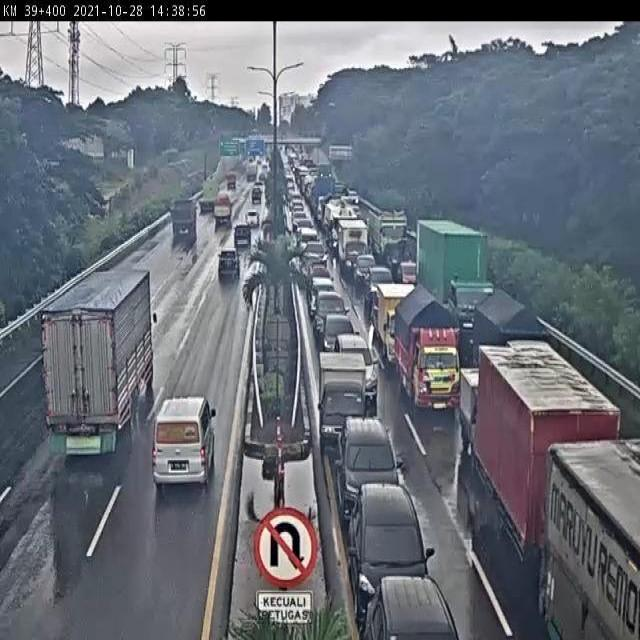big truck: (479, 345, 626, 595), (40, 274, 158, 462), (417, 220, 491, 341), (193, 180, 220, 221)
car: (349, 486, 436, 618), (335, 418, 399, 530), (152, 395, 217, 493), (363, 577, 460, 640), (335, 336, 380, 403), (319, 315, 360, 369), (312, 290, 350, 342), (367, 265, 395, 308), (309, 276, 334, 316), (300, 252, 323, 295), (215, 248, 242, 283), (297, 226, 319, 262), (355, 255, 376, 288), (233, 224, 254, 251), (244, 208, 260, 228)
small truck: (469, 286, 548, 411), (393, 287, 462, 416), (458, 365, 521, 468), (317, 348, 369, 449), (377, 283, 420, 369), (339, 220, 369, 276), (165, 204, 195, 243), (210, 193, 233, 230), (225, 173, 238, 192), (250, 191, 261, 205)
